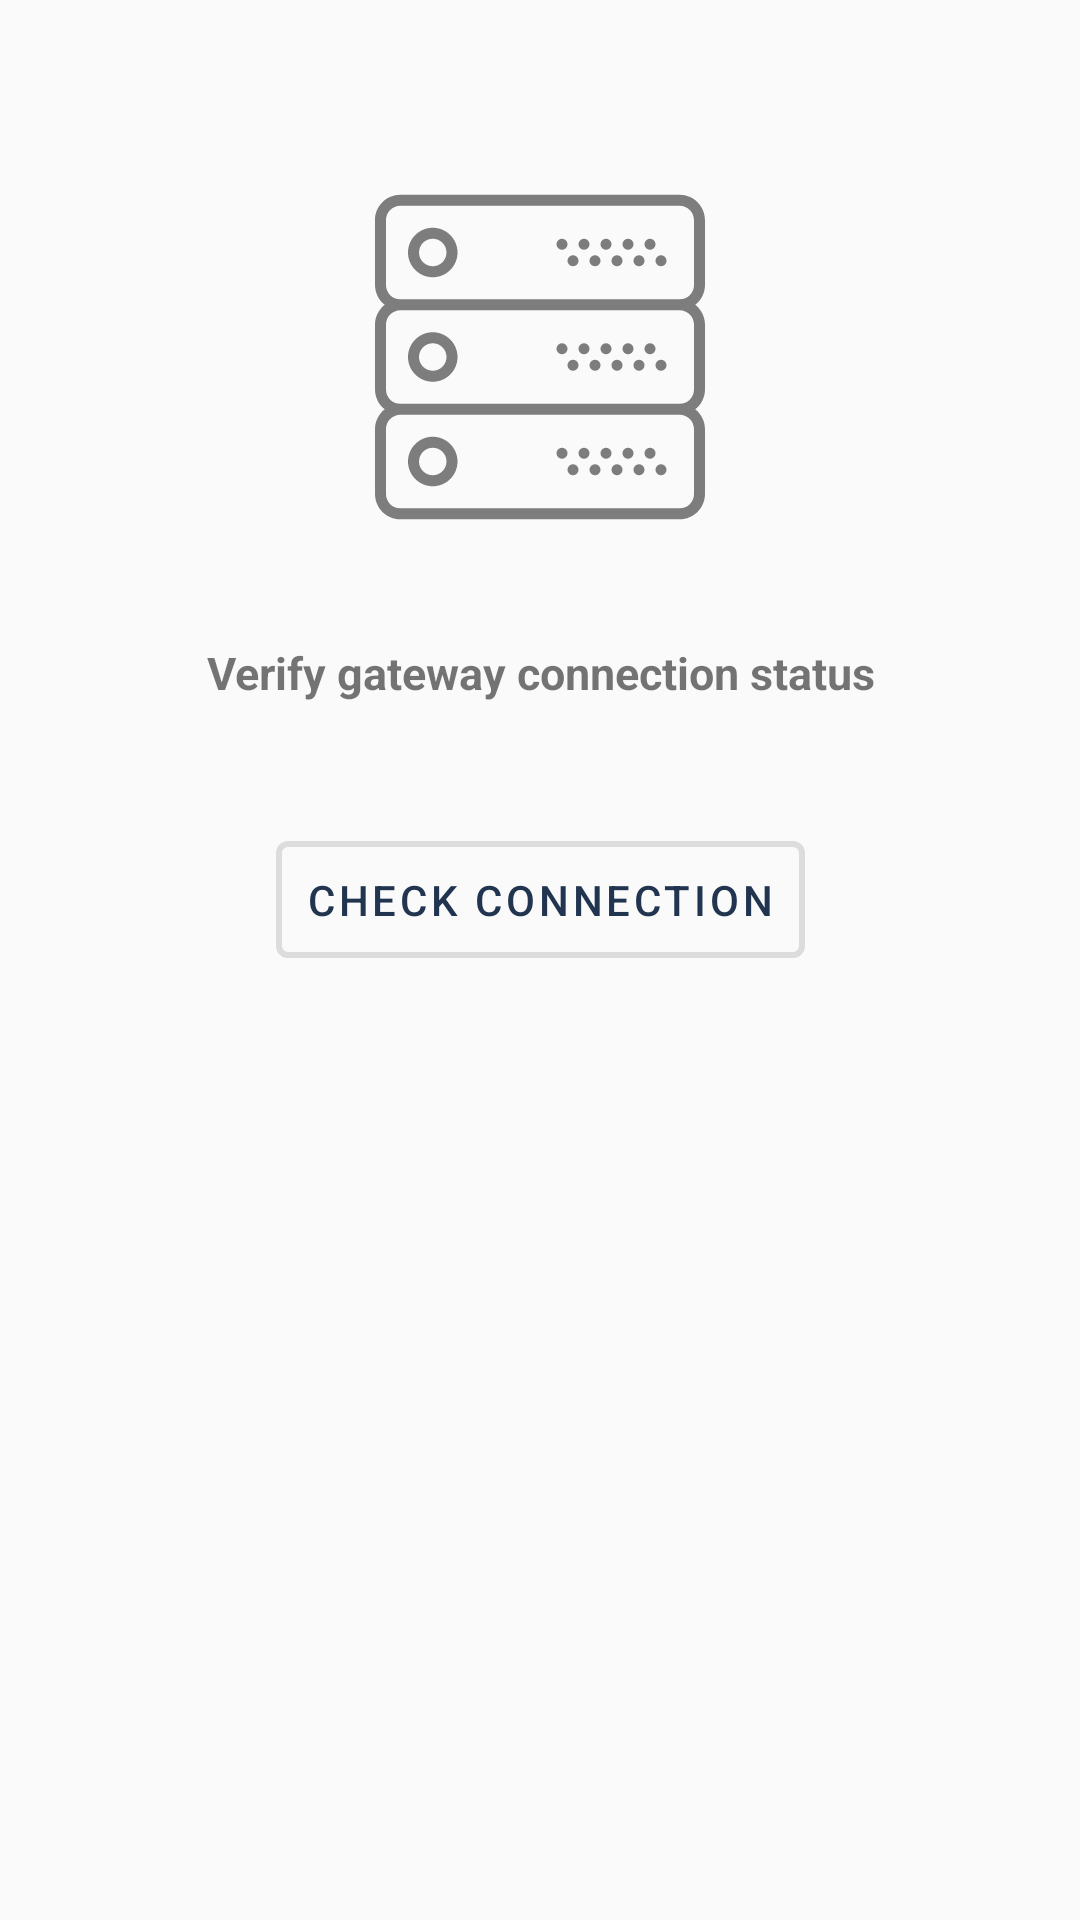

Icons on this 1080w x 1920h Android screen, each with its box as (x1, y1, x2, y2):
server gateway: (375, 194, 705, 520)
